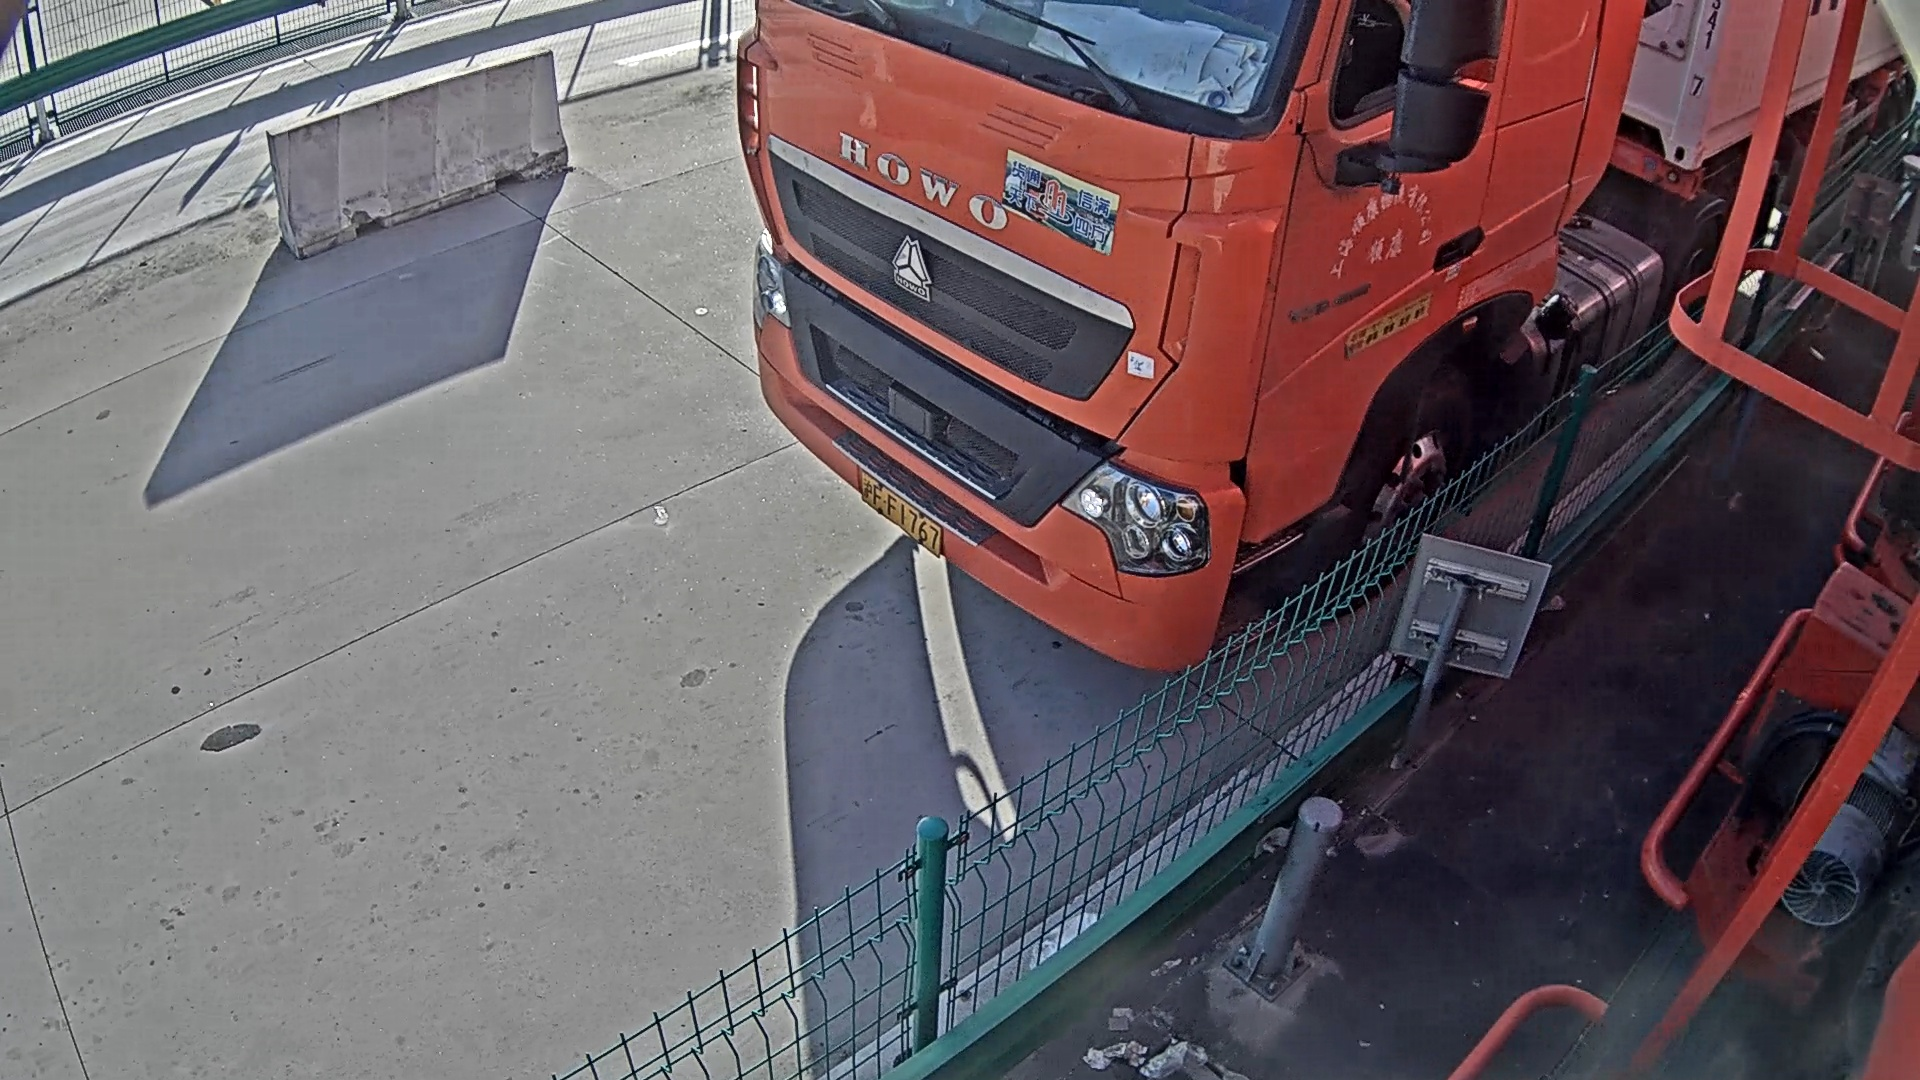head: (738, 1, 1630, 661)
plate: (856, 465, 940, 559)
